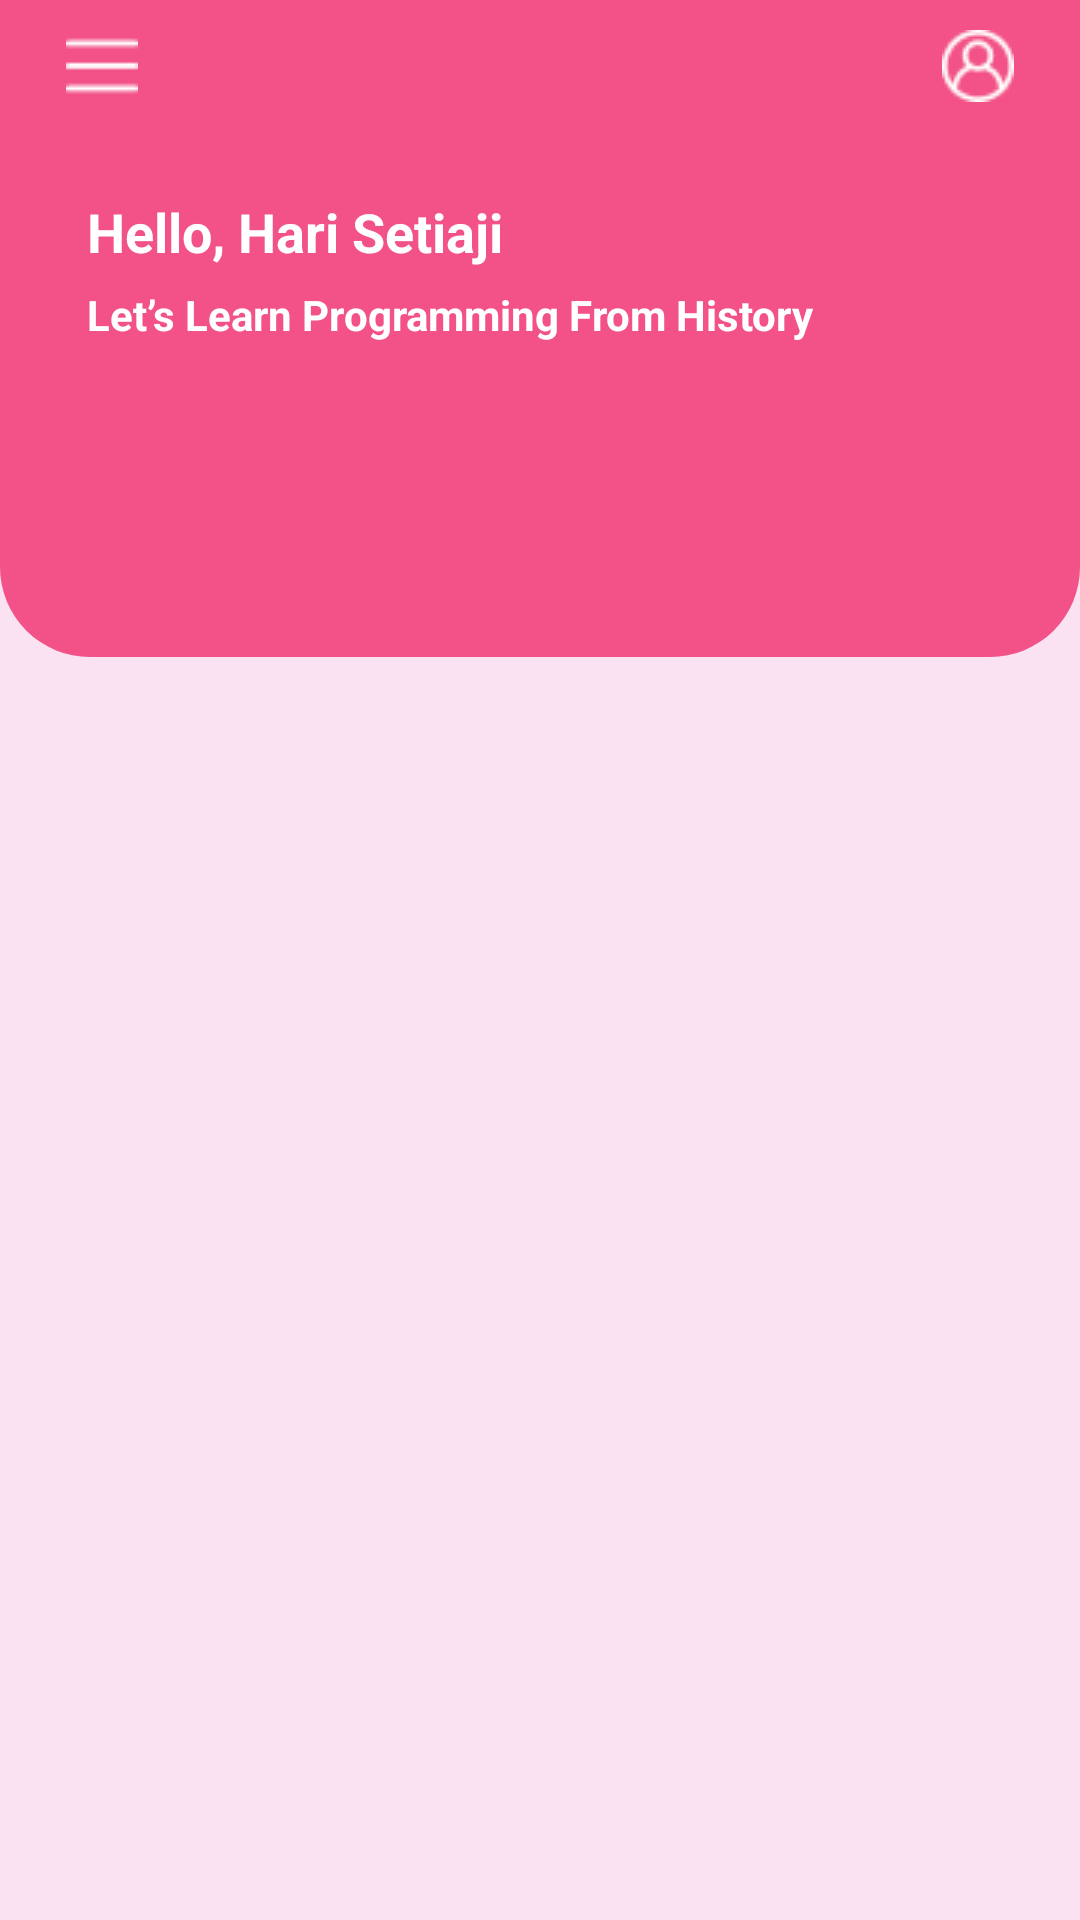

Where icons sit on this 1080px×1920px app screen, as (x1, y1, x2, y2):
menu: (66, 38, 138, 93)
user: (942, 30, 1014, 102)
